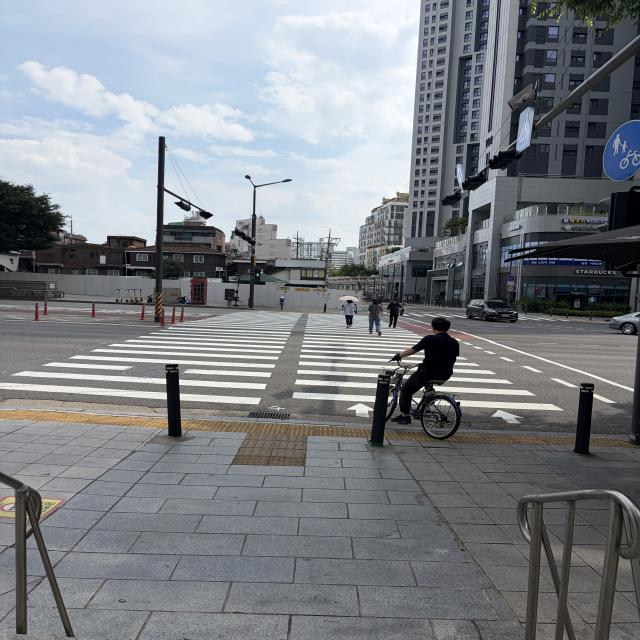bicycle: (363, 316, 493, 447)
